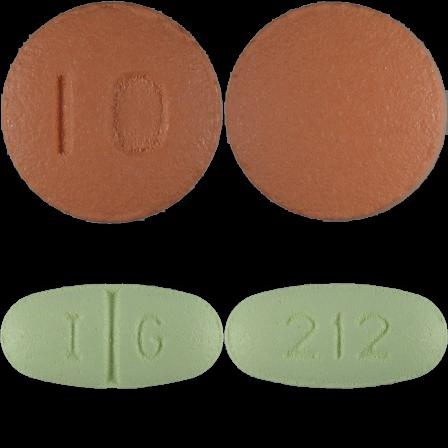68788-9692: (0, 0, 224, 224)
